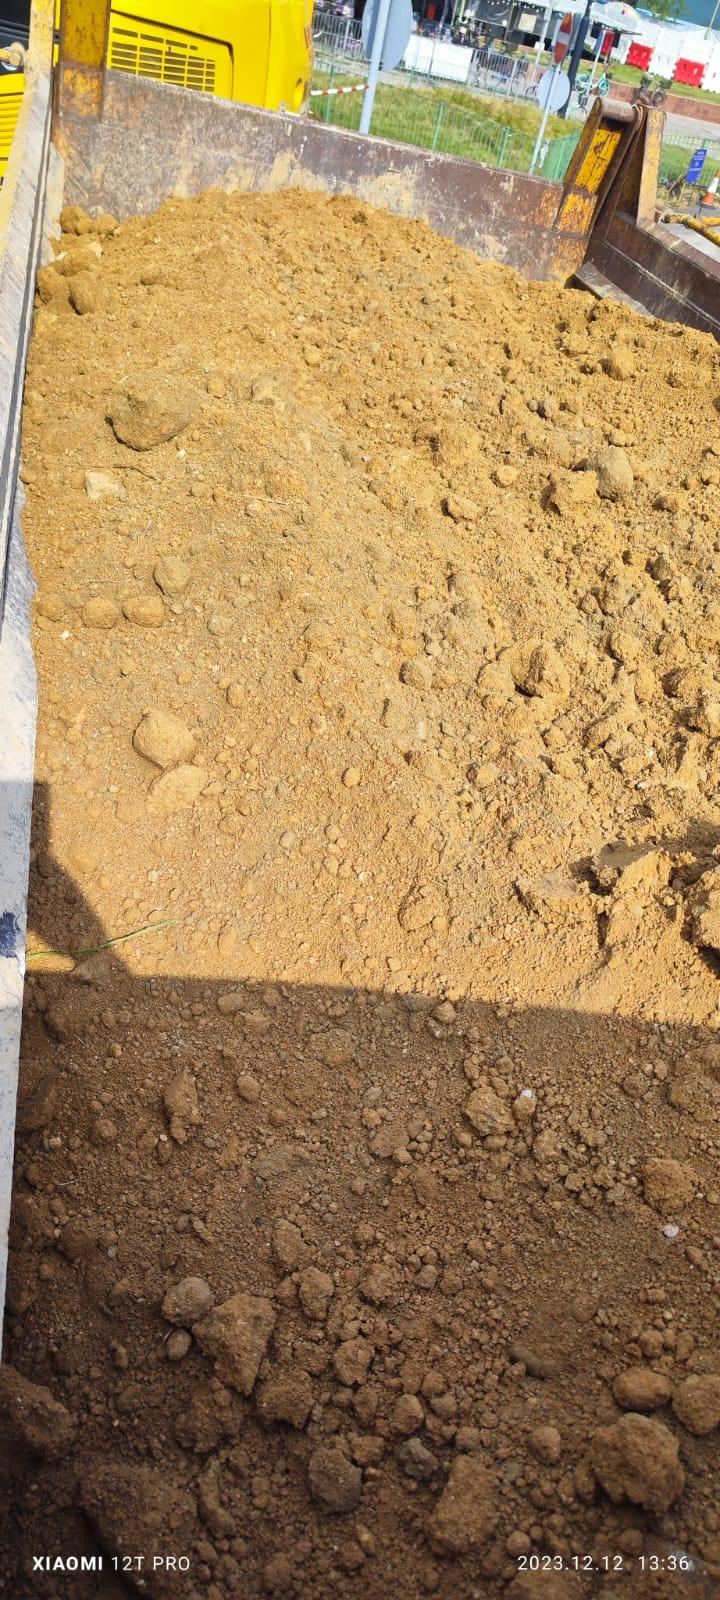dirt: (5, 182, 717, 1595)
stone: (3, 967, 718, 1598), (587, 1411, 685, 1515), (190, 1291, 277, 1397), (104, 371, 198, 451), (131, 707, 196, 769), (306, 1446, 362, 1513), (611, 1365, 671, 1410), (160, 1276, 213, 1324)
